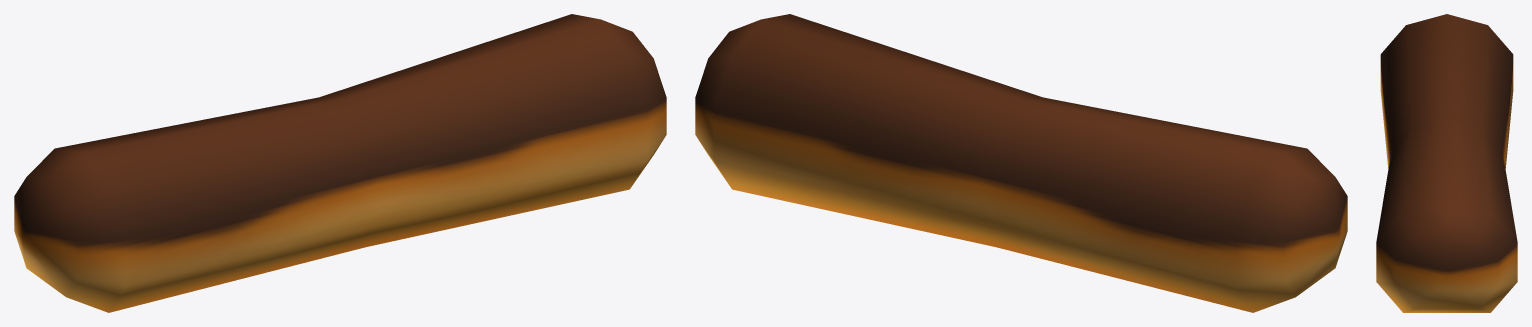
Rendered from Eclair_Chocolate.fbx.
The picture shows the model from 3 angles, left to right: view 1: azimuth 30°, elevation 25°; view 2: azimuth 150°, elevation 25°; view 3: azimuth 270°, elevation 25°; orthographic projection. The views are drawn at different scales.
Parts seen in each view (by area): view 1: Eclair_Chocolate; view 2: Eclair_Chocolate; view 3: Eclair_Chocolate.
Part boxes in pixels (left/top/right/bottom): Eclair_Chocolate: left=14, top=14, right=666, bottom=312; Eclair_Chocolate: left=695, top=14, right=1347, bottom=312; Eclair_Chocolate: left=1376, top=14, right=1517, bottom=312.
Size of the model in its own units: 233 by 52.05 by 59.22.
